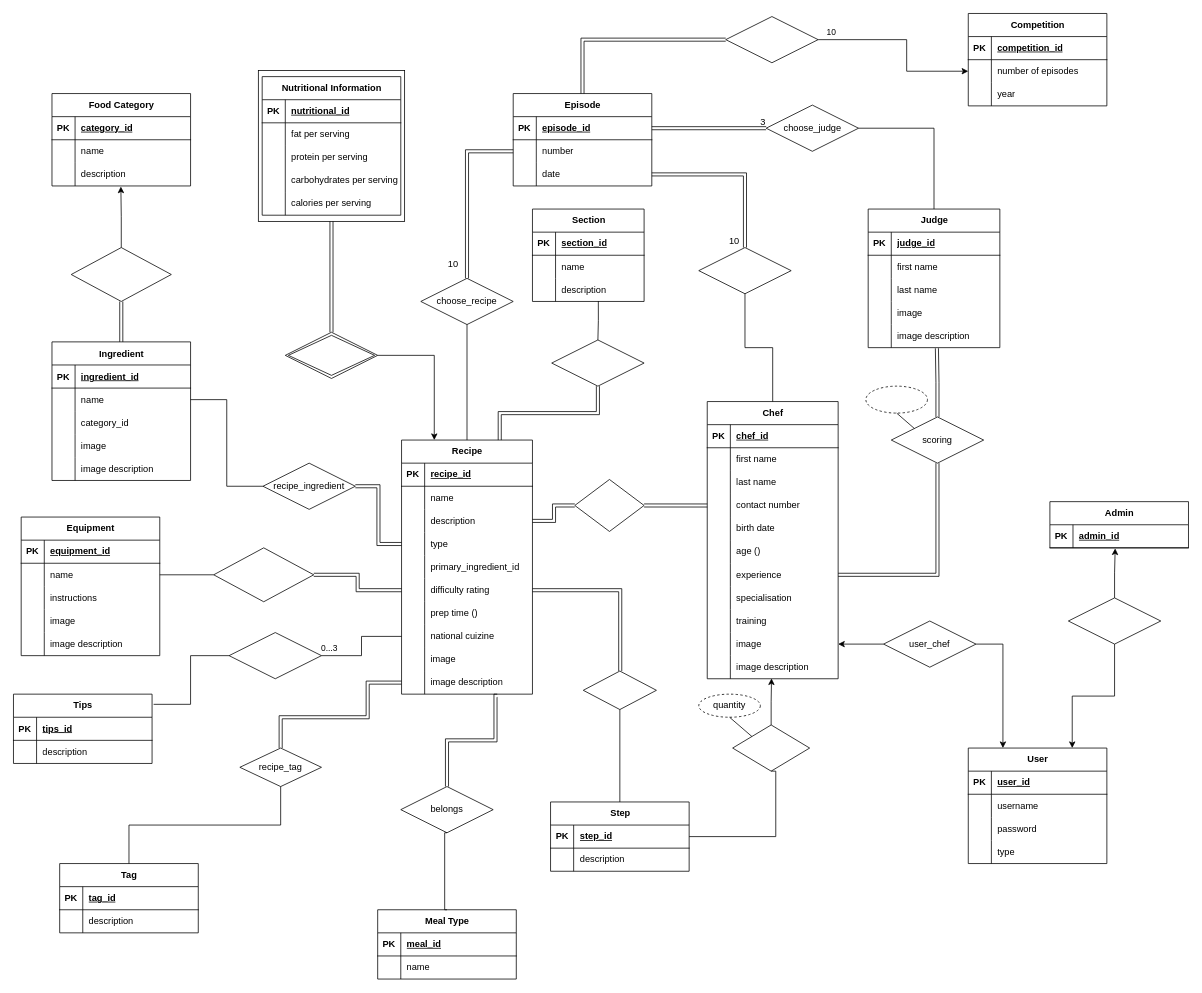
This 1202x993 diagram has some shape labels left out. Each missing label, with the centre of its shape:
"choose_chef" goes at (744,270).
"executes" goes at (771,747).
"has" goes at (771,39).
"ingredient_category" goes at (120,274).
"recipe_chef" goes at (609,505).
"recipe_equipment" goes at (263,574).
"recipe_info" goes at (331,354).
"recipe_section" goes at (597,362).
"recipe_step" goes at (619,690).
"recipe_tips" goes at (274,655).
"score" goes at (896,399).
"user_admin" goes at (1114,620).
